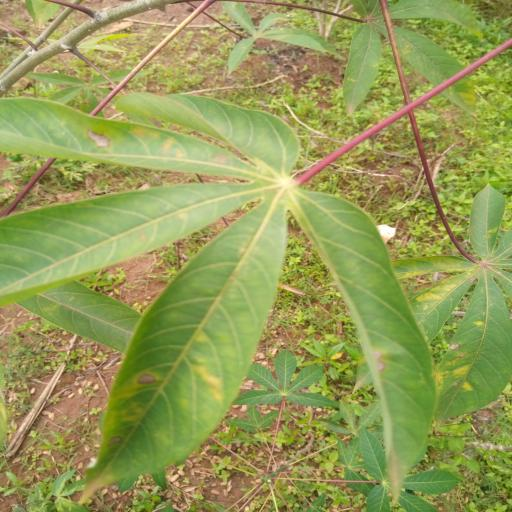Cassava_Brown_Leaf_Spot: (1, 86, 437, 495)
